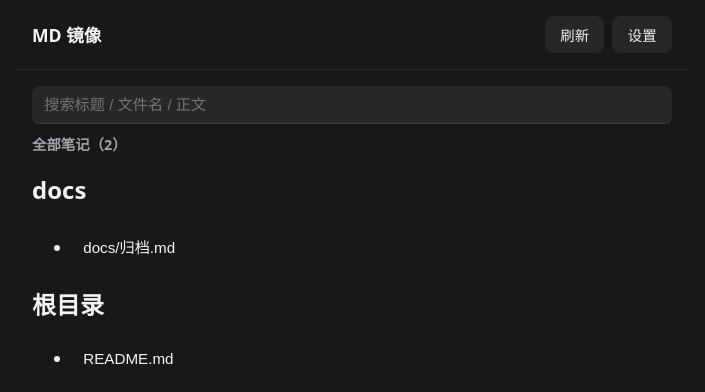
Test: 首页全局搜索（集成） › 文件名与标题双命中 → 主行与标题行各自独立展示；清空恢复全量
Type "归档" into the search field with class "search-input" at (352, 105), box [32,86,672,123]
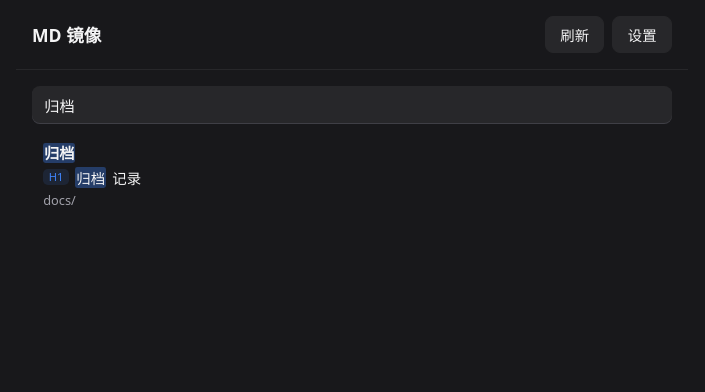
Expected: the text "docs/" is shown, [43,191,76,209]
Clear the search field with class "search-input" at (352, 105), box [32,86,672,123]
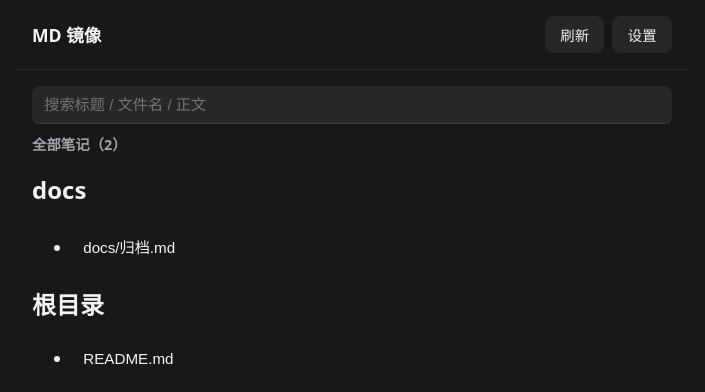
Expected: the text "README.md" is shown, [72,341,672,375]
